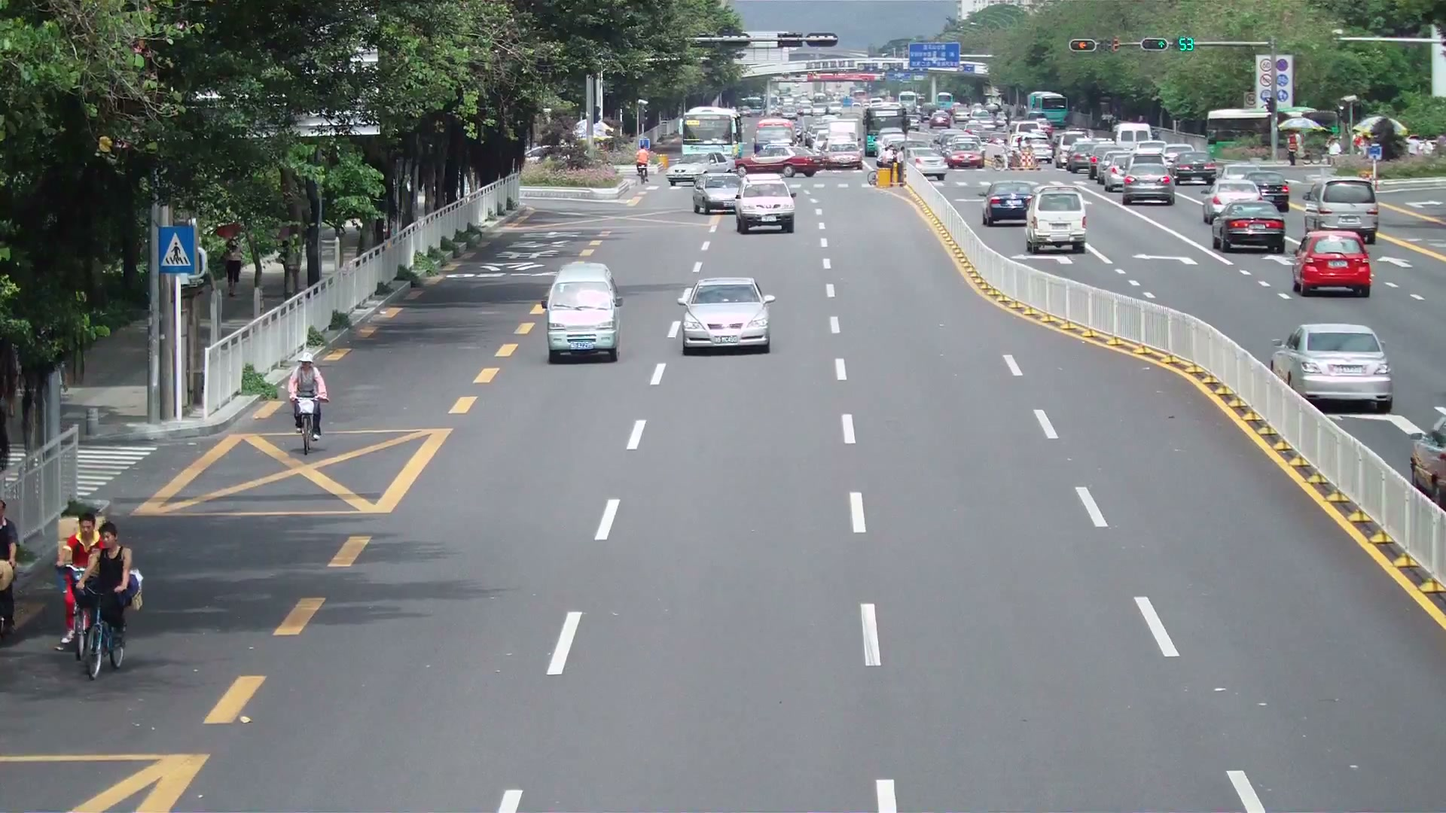bus: (1205, 109, 1277, 169)
car: (1269, 321, 1394, 413), (544, 262, 621, 363), (679, 276, 774, 355), (1302, 178, 1381, 249), (1291, 230, 1372, 298), (1024, 187, 1089, 255), (1209, 200, 1286, 254), (734, 177, 795, 234), (691, 168, 746, 215), (667, 144, 728, 186), (1122, 165, 1175, 207), (982, 189, 1032, 225), (945, 145, 985, 170)
motorcycle: (287, 387, 326, 453)
pedestrian: (69, 519, 139, 661), (56, 513, 101, 652), (286, 354, 330, 435), (0, 498, 19, 632), (0, 499, 20, 564)
truck: (1204, 108, 1277, 178)
